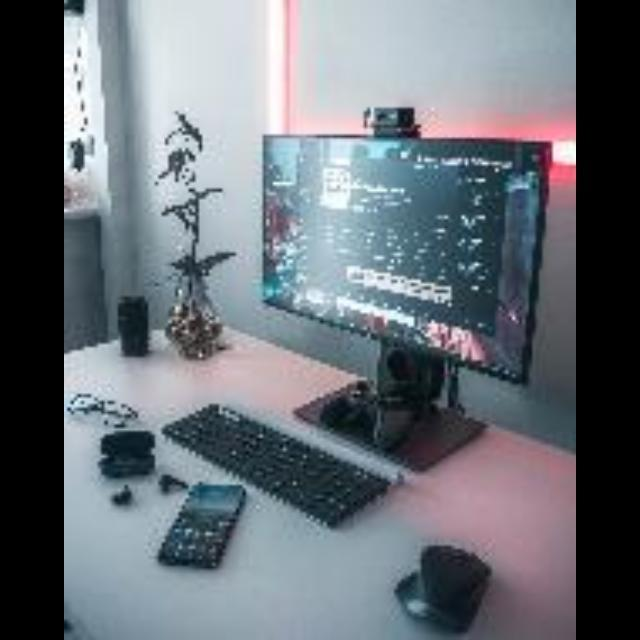PhoneUse: (155, 485, 249, 565)
